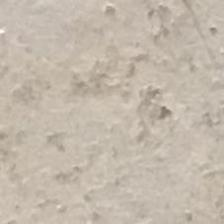Non_Crack: (17, 7, 224, 222)
